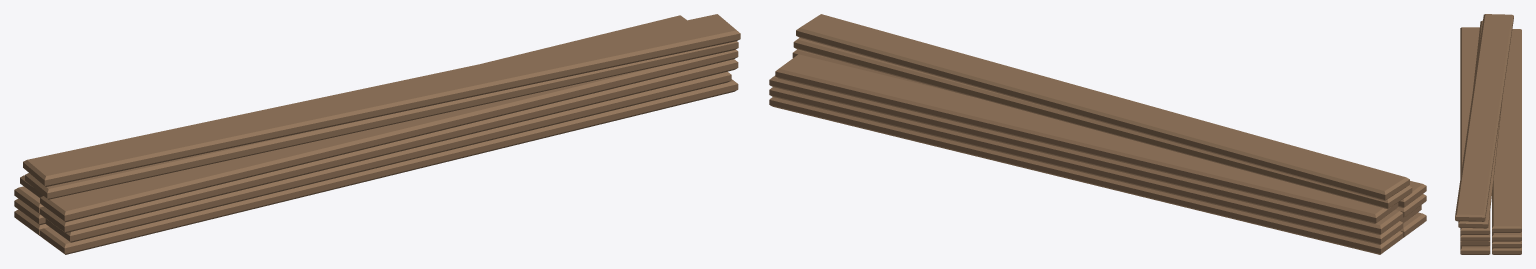
Rendered from props_80.glb.
The picture shows the model from 3 angles, left to right: view 1: azimuth 30°, elevation 25°; view 2: azimuth 150°, elevation 25°; view 3: azimuth 270°, elevation 25°; orthographic projection. The views are drawn at different scales.
Visible parts, largest first — view 1: props_80; view 2: props_80; view 3: props_80.
Part boxes in pixels (x1,y1,x2,y2): props_80: (14,14,740,254); props_80: (769,14,1426,254); props_80: (1455,14,1521,254).
Size of the model in its own units: 6.67 by 0.6131 by 0.9308.
Materials: 1 (1 with a texture image).
